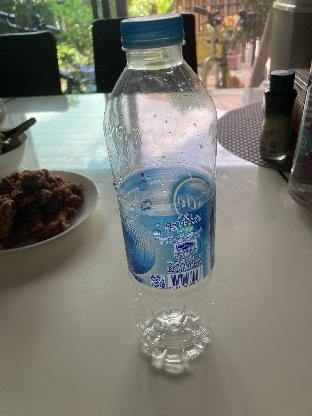Plastic Bottle: (100, 13, 219, 371)
